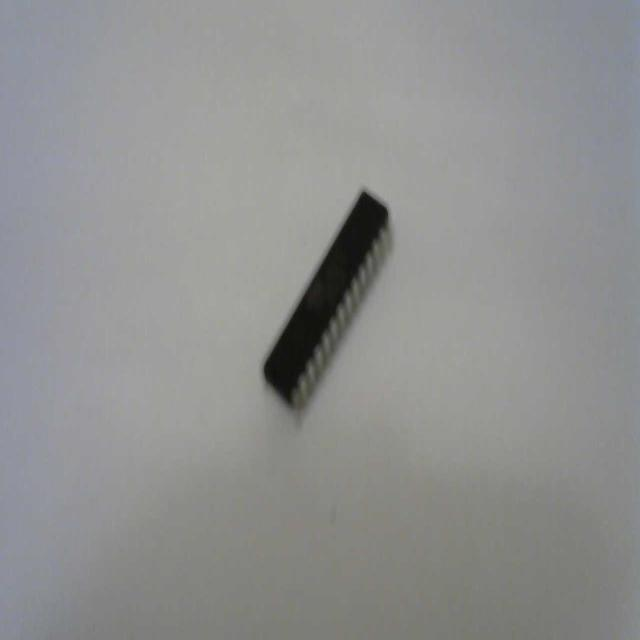atmega: (260, 184, 396, 416)
